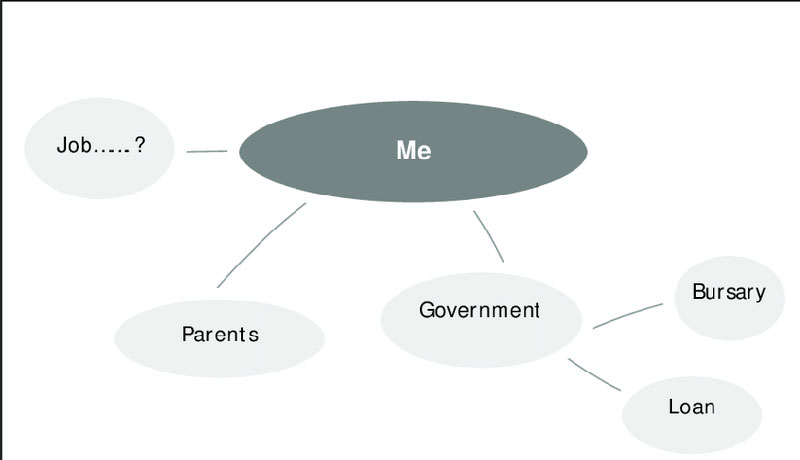circle: (234, 99, 591, 206), (377, 269, 585, 369), (110, 295, 329, 381), (20, 95, 177, 199), (621, 373, 766, 456), (672, 253, 785, 343)
line: (214, 196, 312, 293), (564, 354, 626, 394), (590, 299, 666, 330), (471, 206, 507, 266), (184, 145, 234, 156)
